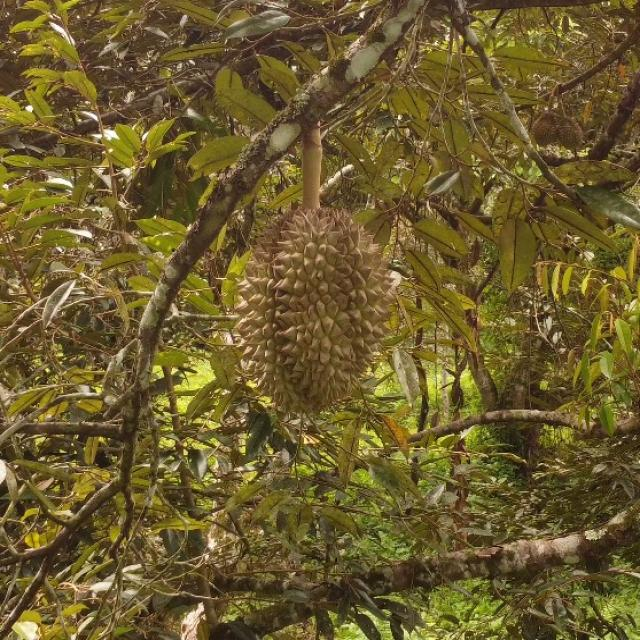mature: (229, 204, 396, 418)
